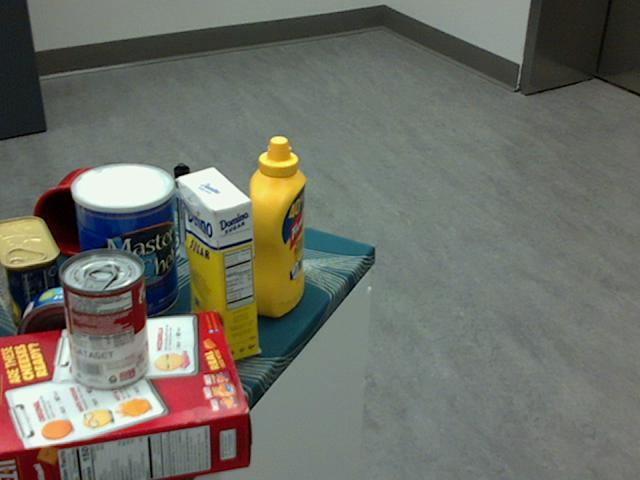cracker_box: (0, 312, 250, 479)
large_marker: (173, 162, 194, 257)
master_chef_can: (70, 163, 177, 323)
mug: (31, 167, 122, 258)
mustard_bottle: (245, 135, 305, 317)
potted_meat_can: (0, 215, 64, 330)
sugar_box: (178, 166, 258, 364)
tomato_soup_can: (58, 249, 147, 390)
tuna_fish_can: (17, 286, 112, 377)
